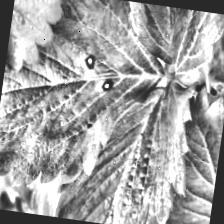Leaf Spot: (0, 0, 174, 206), (52, 65, 201, 224), (107, 0, 224, 96), (162, 82, 224, 224), (3, 0, 75, 86)
